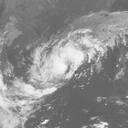cyclone: (30, 28, 107, 88)
